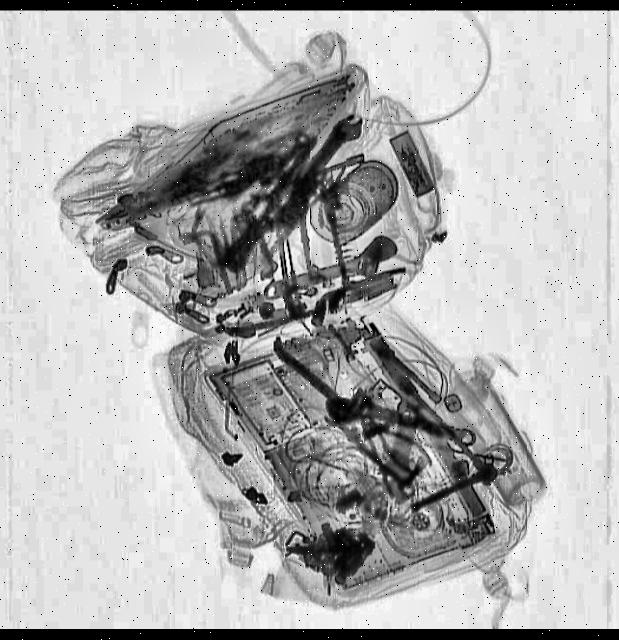Pliers: (354, 408, 434, 488)
Wrench: (318, 379, 479, 464), (256, 234, 402, 316), (298, 106, 367, 182), (380, 397, 422, 504)
